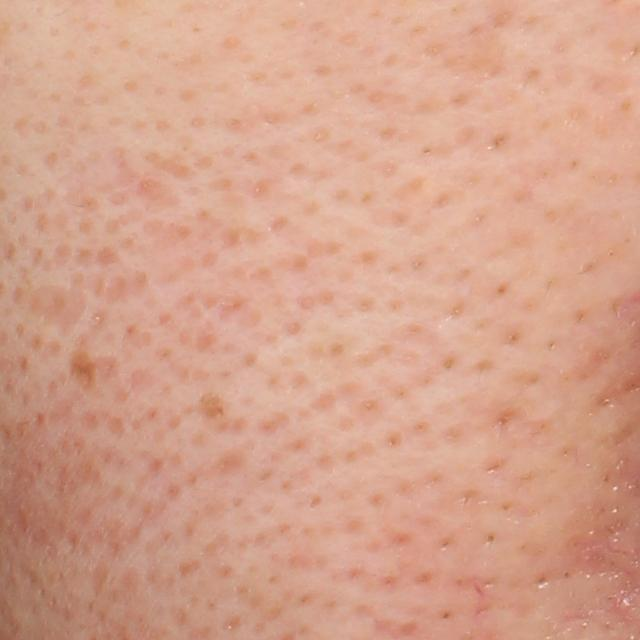atrophic_scar: (24, 280, 96, 336)
